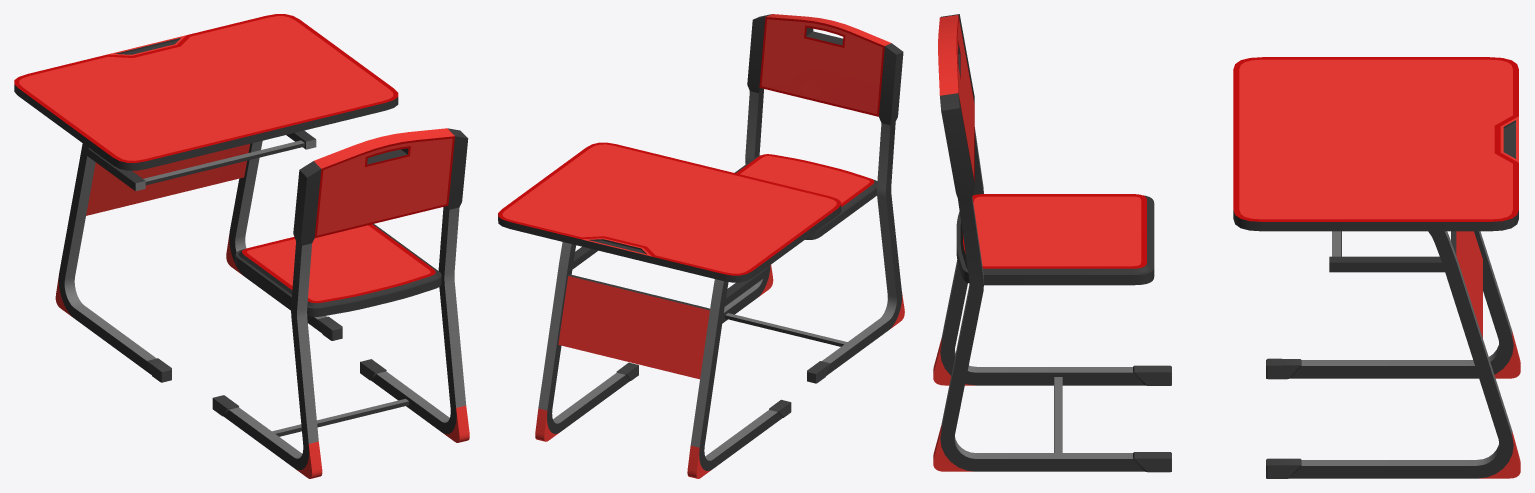
File: Studant Table Chair LEVEL-2-2.fbx
3 views of the same model, side by side, from view 1: azimuth 30°, elevation 25°; view 2: azimuth 150°, elevation 25°; view 3: azimuth 270°, elevation 25° (orthographic). The views are drawn at different scales.
Parts seen in each view (by area): view 1: Studant Table Chair LEVEL-2-2; view 2: Studant Table Chair LEVEL-2-2; view 3: Studant Table Chair LEVEL-2-2.
Part boxes in pixels (x1,y1,x2,y2): Studant Table Chair LEVEL-2-2: (14,14,469,478); Studant Table Chair LEVEL-2-2: (498,14,904,478); Studant Table Chair LEVEL-2-2: (933,14,1520,478).
Size of the model in its own units: 7.86 by 8.49 by 11.84.
